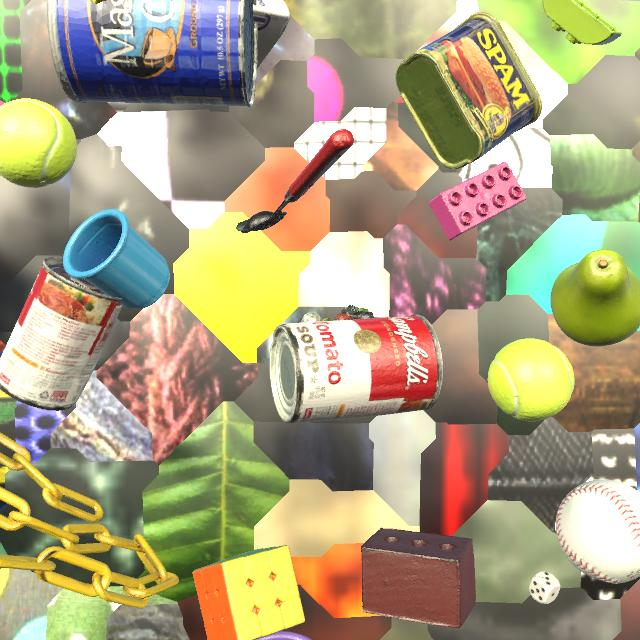ycb_002_master_chef_can: (47, 0, 258, 108)
ycb_004_sugar_box: (93, 0, 291, 68)
ycb_005_tomato_soup_can: (269, 314, 443, 424), (0, 257, 123, 411)
ycb_010_potted_meat_can: (396, 12, 542, 169)
ycb_016_pear: (550, 249, 640, 346)
